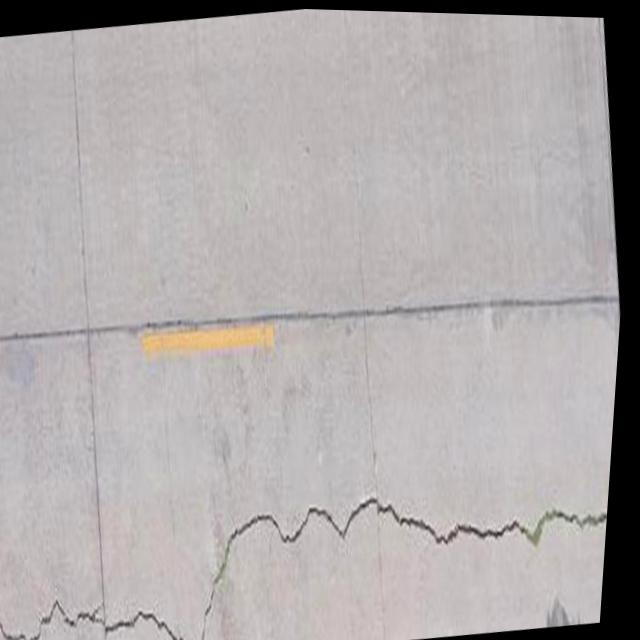Crack: (226, 455, 616, 588), (0, 573, 230, 640)
